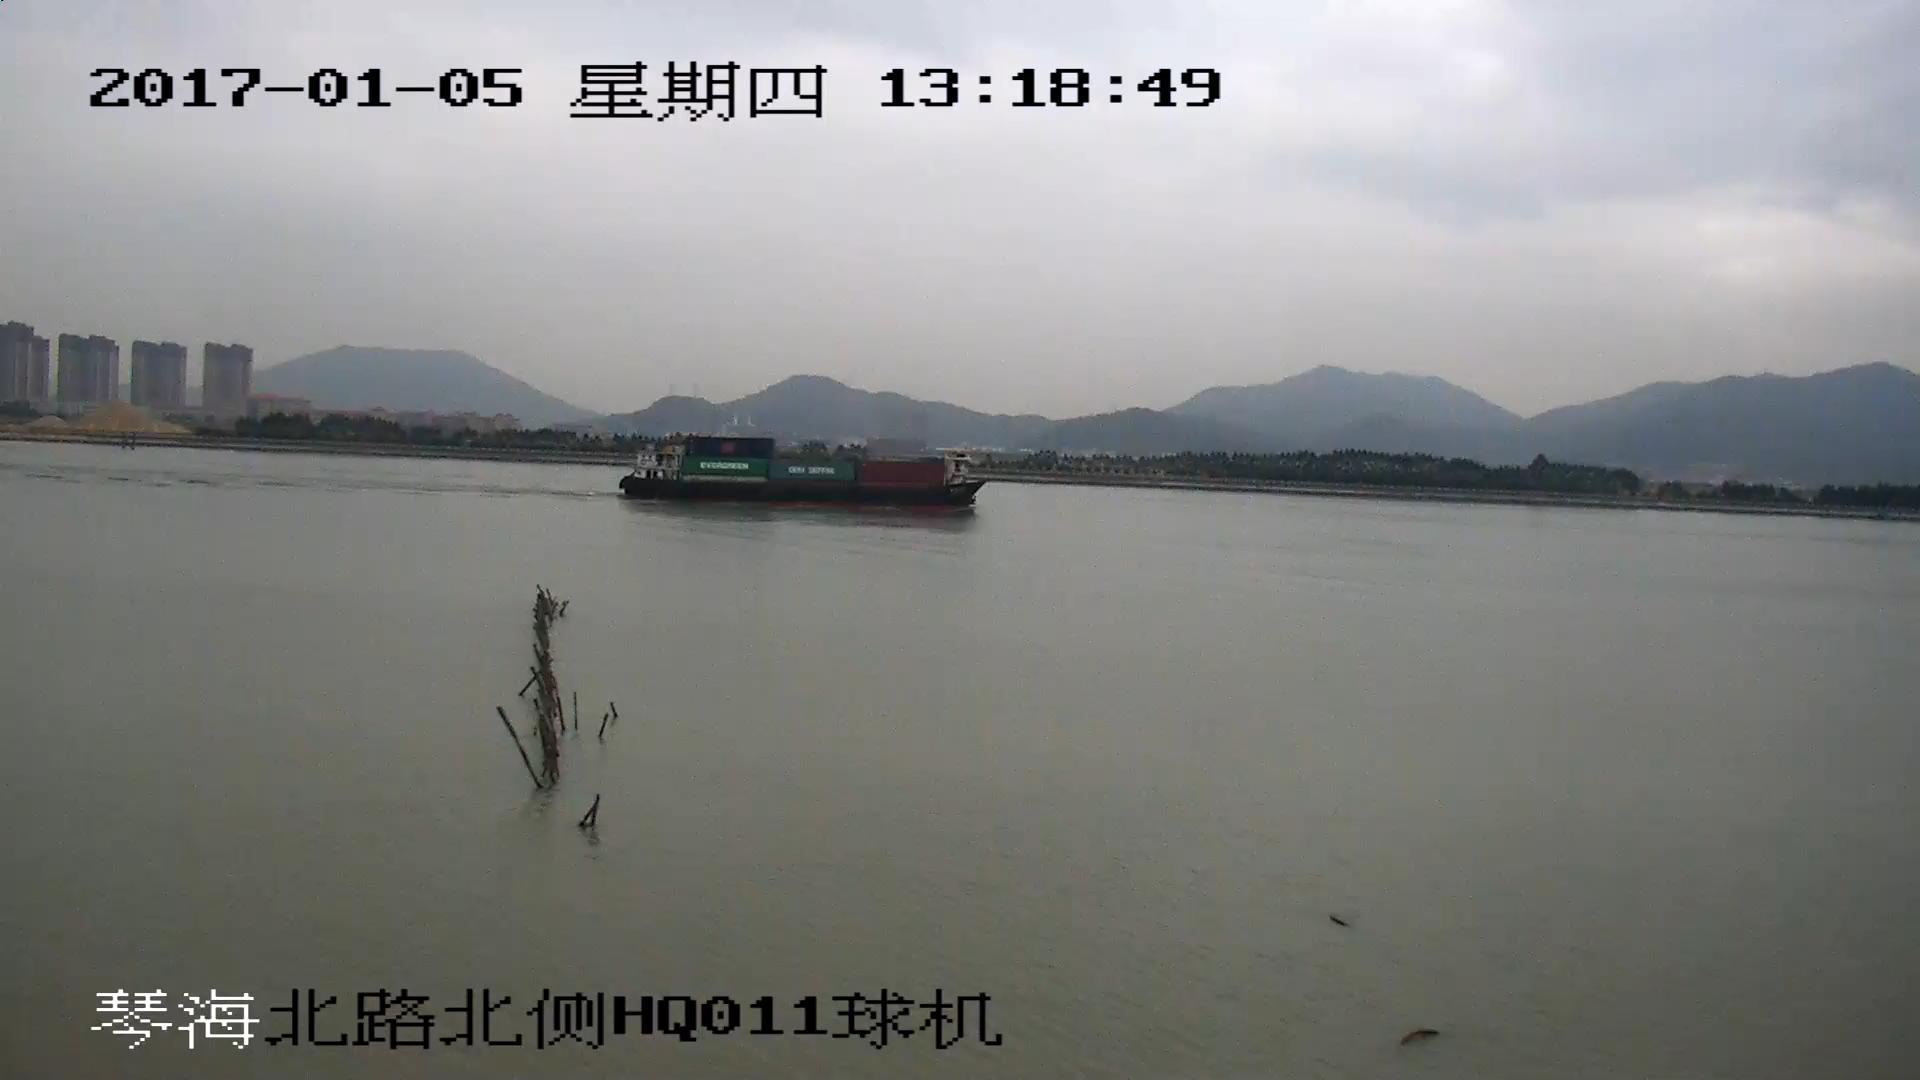container ship: (617, 437, 991, 515)
